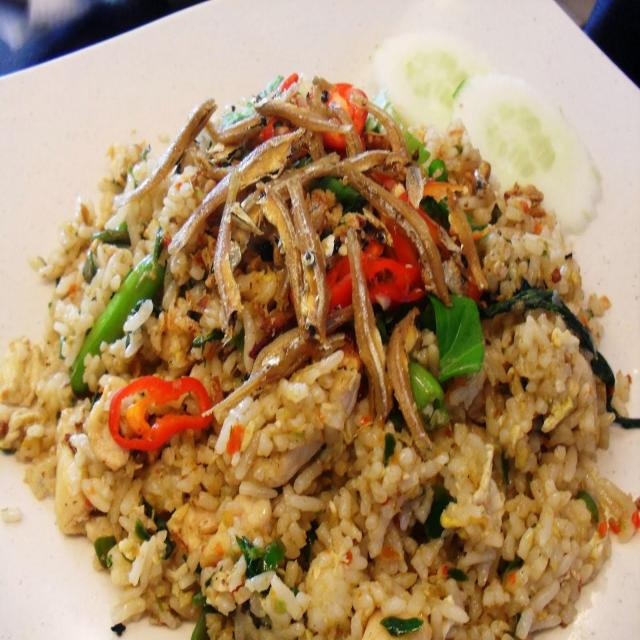Nasi Goreng: (13, 70, 634, 637)
